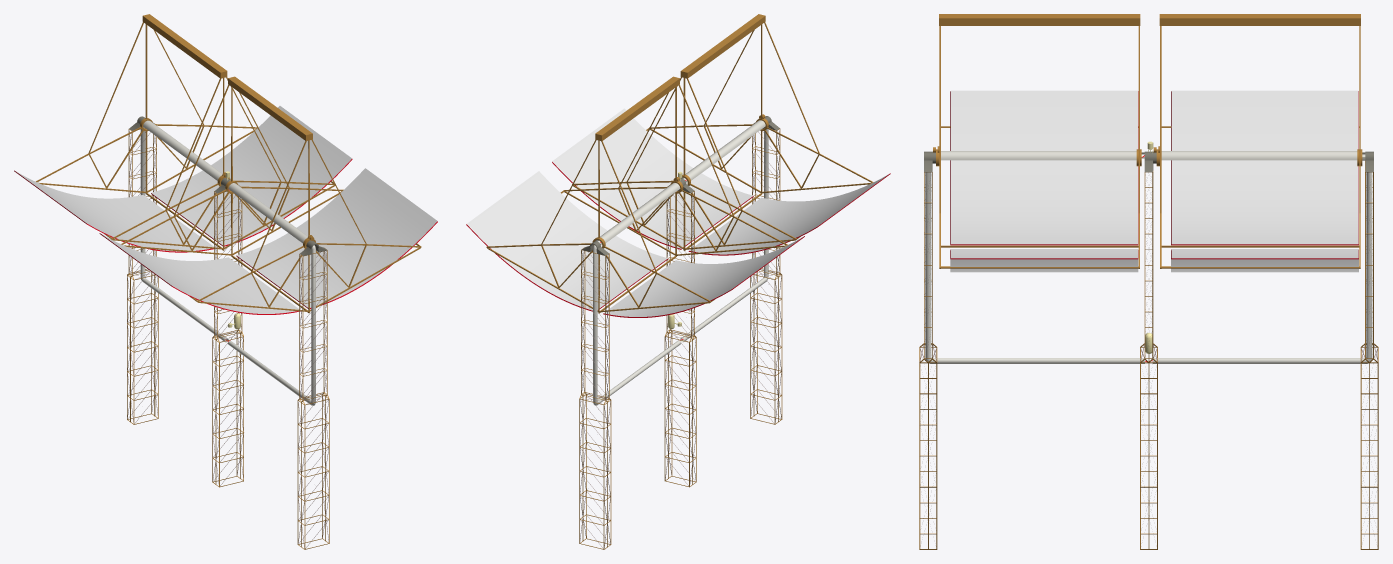
File: Solar_Thermal_Mirror_Set_Center_Circuit.glb
The picture shows the model from 3 angles, left to right: view 1: azimuth 30°, elevation 25°; view 2: azimuth 150°, elevation 25°; view 3: azimuth 270°, elevation 25°; orthographic projection. The views are drawn at different scales.
Parts seen in each view (by area): view 1: ConcentratorMirrors, MirrorTowerFrame; view 2: ConcentratorMirrors, MirrorTowerFrame; view 3: ConcentratorMirrors, MirrorTowerFrame.
Boxes of the visible parts, <box> form: ConcentratorMirrors: <box>14,14,437,314</box>; MirrorTowerFrame: <box>127,116,329,549</box>; ConcentratorMirrors: <box>466,14,890,317</box>; MirrorTowerFrame: <box>579,116,782,549</box>; ConcentratorMirrors: <box>933,14,1362,272</box>; MirrorTowerFrame: <box>919,141,1378,549</box>.
Size of the model in its own units: 40.17 by 58.8 by 46.54.
